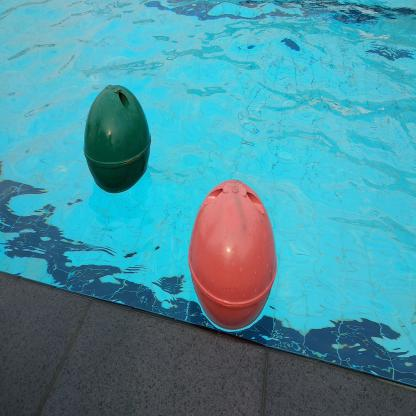green_buoy: (78, 72, 158, 201)
red_buoy: (184, 162, 284, 343)
